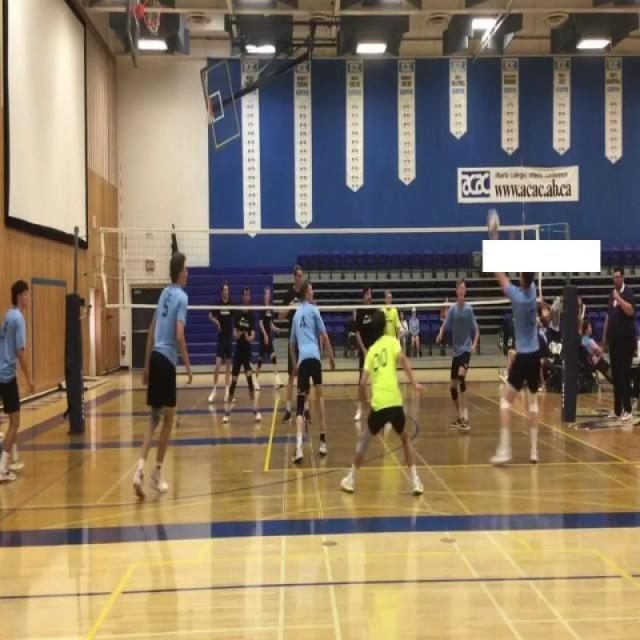volleyball: (487, 208, 500, 240)
